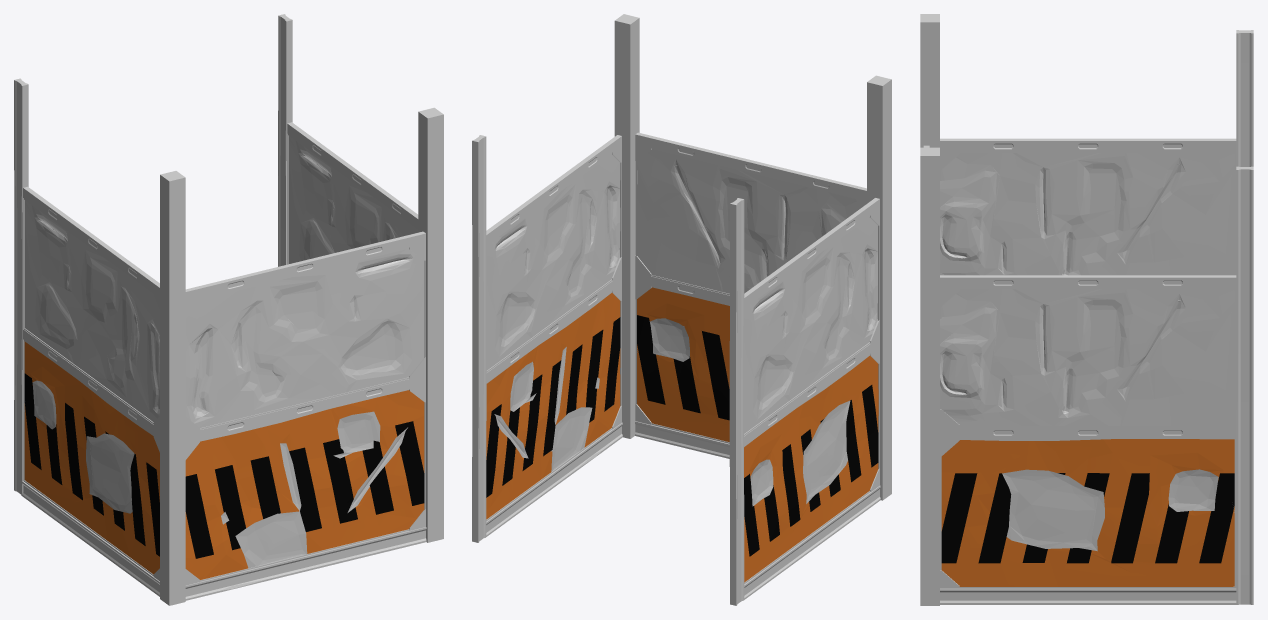
The model's file is SM_Wall_Angle_Broken_06.glb.
3 views of the same model, side by side, from view 1: azimuth 30°, elevation 25°; view 2: azimuth 150°, elevation 25°; view 3: azimuth 270°, elevation 25° (orthographic). The views are drawn at different scales.
Visible parts, largest first — view 1: SM_Wall_Angle_Broken_06; view 2: SM_Wall_Angle_Broken_06; view 3: SM_Wall_Angle_Broken_06.
Part boxes in pixels (x1,y1,x2,y2): SM_Wall_Angle_Broken_06: (14, 14, 443, 605); SM_Wall_Angle_Broken_06: (472, 14, 891, 605); SM_Wall_Angle_Broken_06: (920, 14, 1253, 605).
Bounding box in the file's own units: 2.03 × 3 × 2.01.
